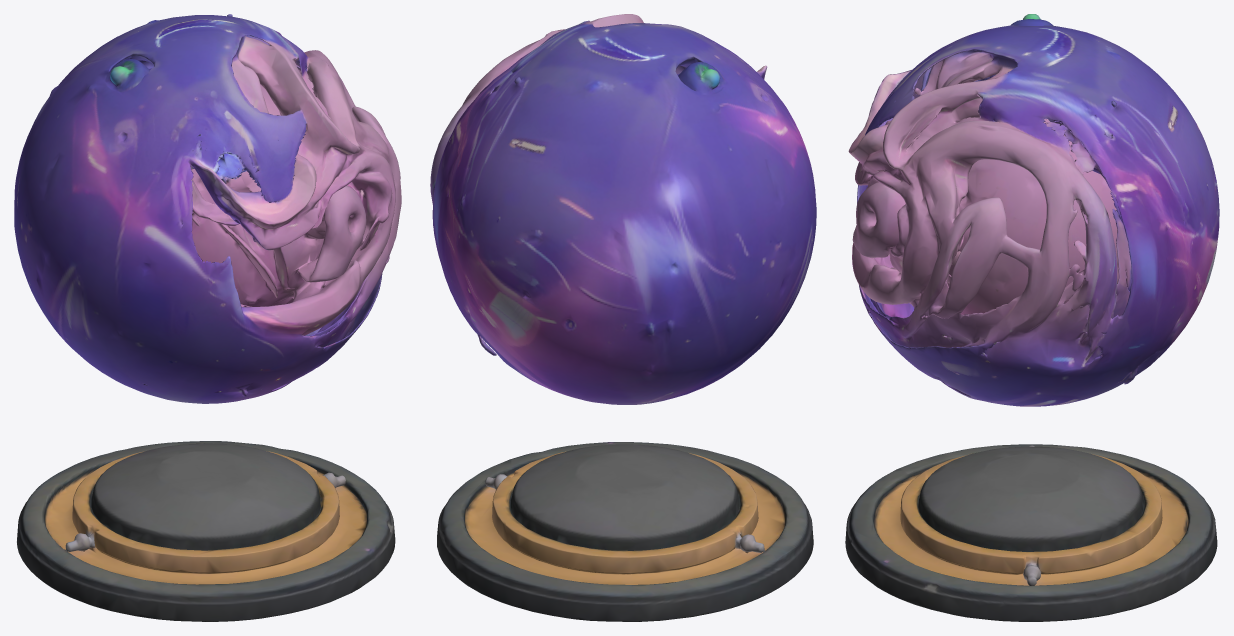
Rendered from prop-orb-floating.glb.
3 renders of one model, left to right at view 1: azimuth 30°, elevation 25°; view 2: azimuth 150°, elevation 25°; view 3: azimuth 270°, elevation 25°, orthographic.
Parts seen in each view (by area): view 1: tripo_node_d58b5e96-1847-4824-8e98-2c9b96b2cf60; view 2: tripo_node_d58b5e96-1847-4824-8e98-2c9b96b2cf60; view 3: tripo_node_d58b5e96-1847-4824-8e98-2c9b96b2cf60.
Boxes of the visible parts, x1,y1,x2,y2 form: tripo_node_d58b5e96-1847-4824-8e98-2c9b96b2cf60: (14, 14, 401, 621); tripo_node_d58b5e96-1847-4824-8e98-2c9b96b2cf60: (430, 14, 816, 621); tripo_node_d58b5e96-1847-4824-8e98-2c9b96b2cf60: (845, 14, 1219, 621).
Bounding box in the file's own units: 1.36 × 2 × 1.35.
Materials: 1 (1 with a texture image).
